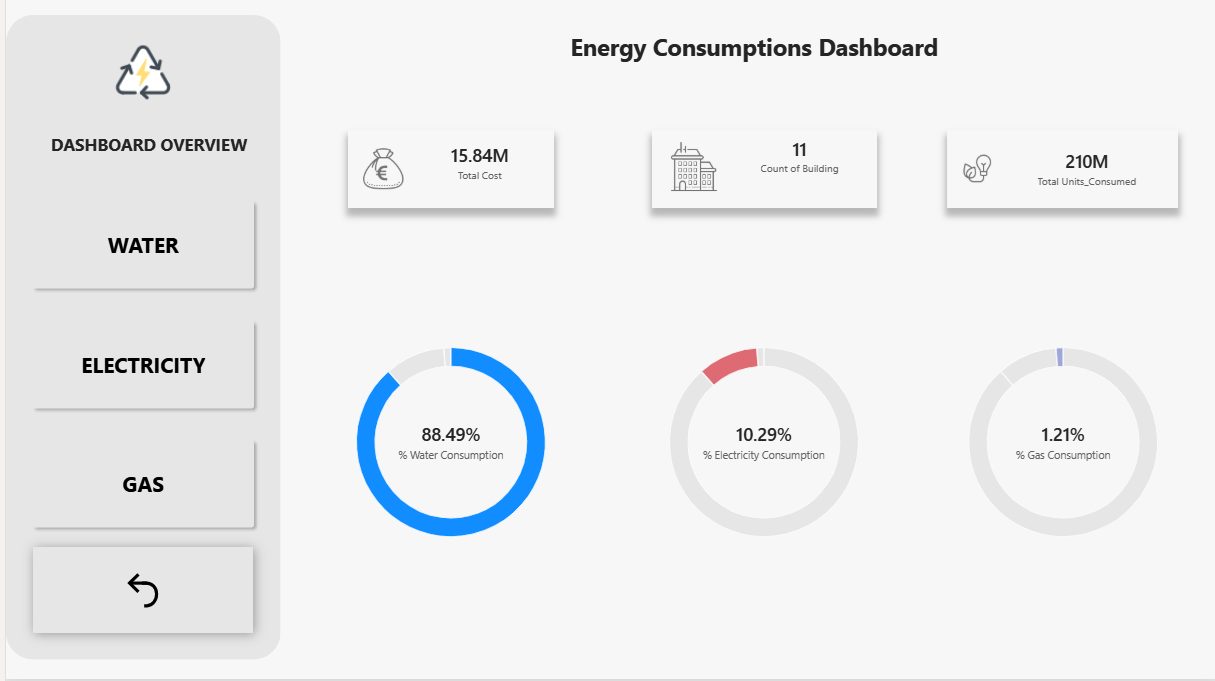

This screenshot's page, from the dashboard's own definition file:
{"tool":"powerbi","page":{"name":"Main","canvas":[1920,1080],"ordinal":0},"visuals":[{"type":"cardVisual","fields":{"Data":["Kpis.Total Cost"]},"box":[542.7,210.1,326.6,124],"z":0},{"type":"donutChart","fields":{"Category":["Energy Consumptions.Energy Type"],"Y":["Sum(Energy Consumptions.Value)"]},"box":[489.8,503.4,430.9,405.2],"z":1000},{"type":"donutChart","fields":{"Category":["Energy Consumptions.Energy Type"],"Y":["Sum(Energy Consumptions.Value)"]},"box":[972.1,503.4,459.6,405.2],"z":2000},{"type":"donutChart","fields":{"Category":["Energy Consumptions.Energy Type"],"Y":["Sum(Energy Consumptions.Value)"]},"box":[1468,503.4,415.7,405.2],"z":3000},{"type":"cardVisual","fields":{"Data":["Count(Energy Consumptions.Building)"]},"box":[1023.5,210.1,356.8,124],"z":4000},{"type":"cardVisual","fields":{"Data":["Kpis.Total Units_Consumed"]},"box":[1492.2,210.1,367.4,124],"z":5000},{"type":"textbox","box":[846.6,54.4,678.8,65],"z":6000},{"type":"shape","box":[0,28.7,435.4,1022],"z":7000},{"type":"textbox","box":[52.9,216.2,349.2,51.4],"z":8000},{"type":"actionButton","box":[33.3,314.5,368.9,157.2],"z":9000},{"type":"actionButton","box":[33.3,503.4,368.9,157.2],"z":10000},{"type":"actionButton","box":[33.3,692.4,368.9,157.2],"z":11000},{"type":"actionButton","box":[42.3,872.3,349.2,136.1],"z":12000},{"type":"image","box":[99.8,65,235.8,108.9],"z":13000}]}

Visuals, with their boxes in screenshot pixels (x1, y1, x2, y2), scaled from the page's 1920x1080 canvas onto the 1215x681 screenshot:
cardVisual - Kpis.Total Cost: bbox(343, 132, 550, 211)
donutChart - Energy Consumptions.Energy Type x Sum(Energy Consumptions.Value): bbox(310, 317, 583, 573)
donutChart - Energy Consumptions.Energy Type x Sum(Energy Consumptions.Value): bbox(615, 317, 906, 573)
donutChart - Energy Consumptions.Energy Type x Sum(Energy Consumptions.Value): bbox(929, 317, 1192, 573)
cardVisual - Count(Energy Consumptions.Building): bbox(648, 132, 873, 211)
cardVisual - Kpis.Total Units_Consumed: bbox(944, 132, 1177, 211)
textbox: bbox(536, 34, 965, 75)
shape: bbox(0, 18, 276, 663)
textbox: bbox(33, 136, 254, 169)
actionButton: bbox(21, 198, 255, 297)
actionButton: bbox(21, 317, 255, 417)
actionButton: bbox(21, 437, 255, 536)
actionButton: bbox(27, 550, 248, 636)
image: bbox(63, 41, 212, 110)
